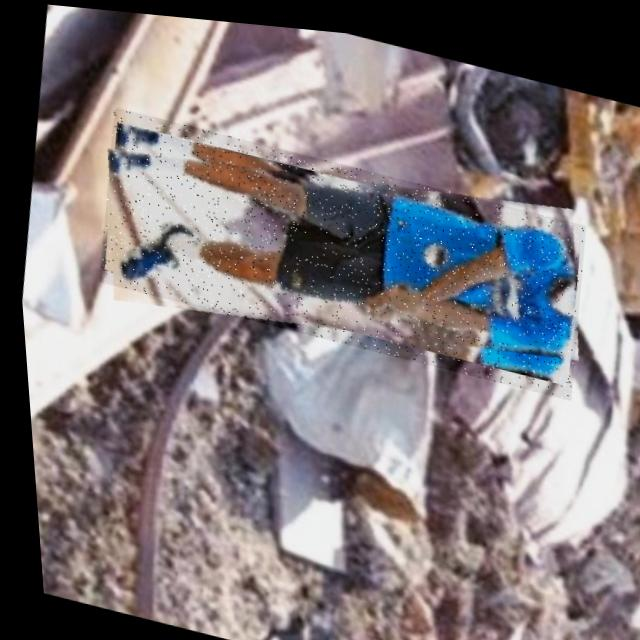Person in Rubble: (84, 102, 593, 392)
